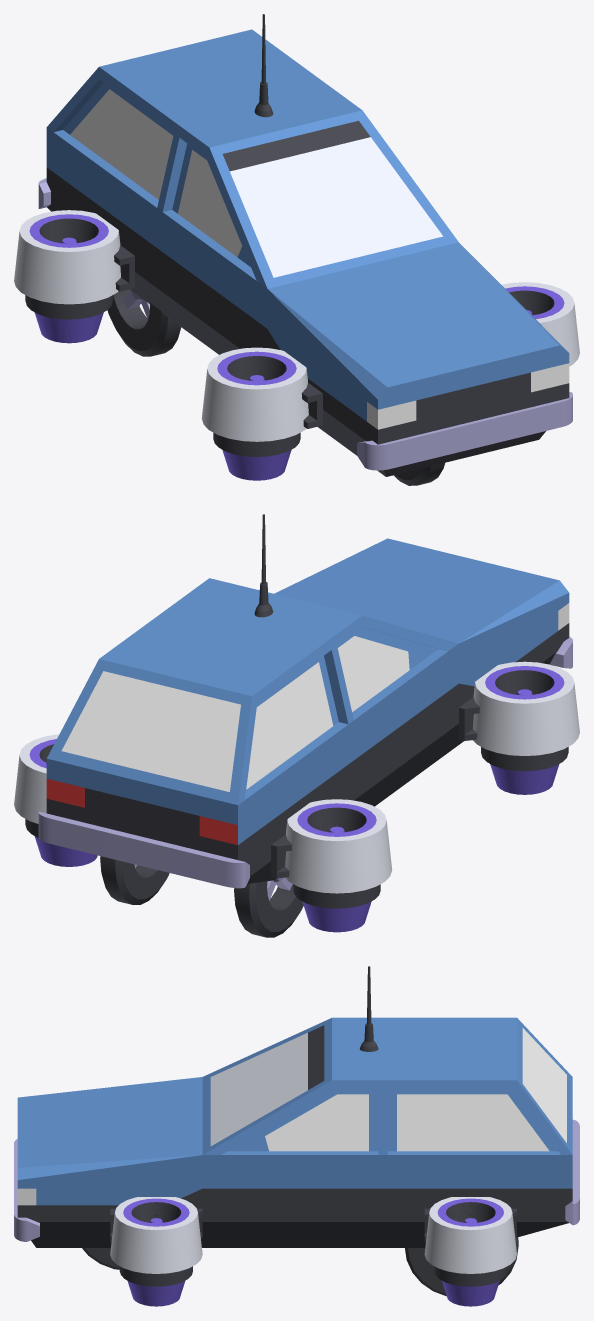
The model's file is FlyingCar1.fbx.
3 views of the same model, one above another, from view 1: azimuth 30°, elevation 25°; view 2: azimuth 150°, elevation 25°; view 3: azimuth 270°, elevation 25° (orthographic). The views are drawn at different scales.
Parts seen in each view (by area): view 1: body_frontLarge, body_topSports, engine_round (×3), body_topBackStation, body_standard, body_backSolid, bumper, wheel_spokes (×2), detailRail_front (×2), detail_antenna; view 2: body_topBackStation, engine_round (×3), body_frontLarge, body_backSolid, body_topSports, body_standard, bumper, wheel_spokes (×2), detailRail_front (×2), detail_antenna; view 3: body_frontLarge, body_topBackStation, body_topSports, body_standard, engine_round (×2), body_backSolid, bumper (×2), wheel_spokes, detail_antenna.
Part boxes in pixels (box(x1,y1,x2,y2)): body_frontLarge: box(267, 242, 569, 476); body_topSports: box(157, 86, 458, 288); engine_round (×3): box(14, 210, 579, 480); body_topBackStation: box(47, 29, 328, 199); body_standard: box(157, 208, 267, 354); body_backSolid: box(46, 127, 175, 322); bumper: box(357, 392, 572, 470); wheel_spokes (×2): box(107, 289, 444, 485); detailRail_front (×2): box(91, 239, 322, 428); detail_antenna: box(254, 14, 273, 117); body_topBackStation: box(47, 602, 338, 804); engine_round (×3): box(14, 661, 579, 932); body_frontLarge: box(274, 538, 569, 758); body_backSolid: box(46, 722, 348, 883); body_topSports: box(177, 578, 458, 724); body_standard: box(348, 644, 458, 806); bumper: box(38, 811, 249, 888); wheel_spokes (×2): box(100, 856, 303, 937); detailRail_front (×2): box(271, 690, 502, 878); detail_antenna: box(254, 514, 273, 617); body_frontLarge: box(17, 1077, 202, 1247); body_topBackStation: box(387, 1017, 572, 1154); body_topSports: box(202, 1017, 387, 1154); body_standard: box(202, 1151, 387, 1247); engine_round (×2): box(110, 1197, 516, 1306); body_backSolid: box(387, 1151, 572, 1247); bumper (×2): box(14, 1119, 579, 1241); wheel_spokes: box(405, 1237, 518, 1296); detail_antenna: box(360, 966, 378, 1051).
Size of the model in its own units: 19 by 17.98 by 30.6.
